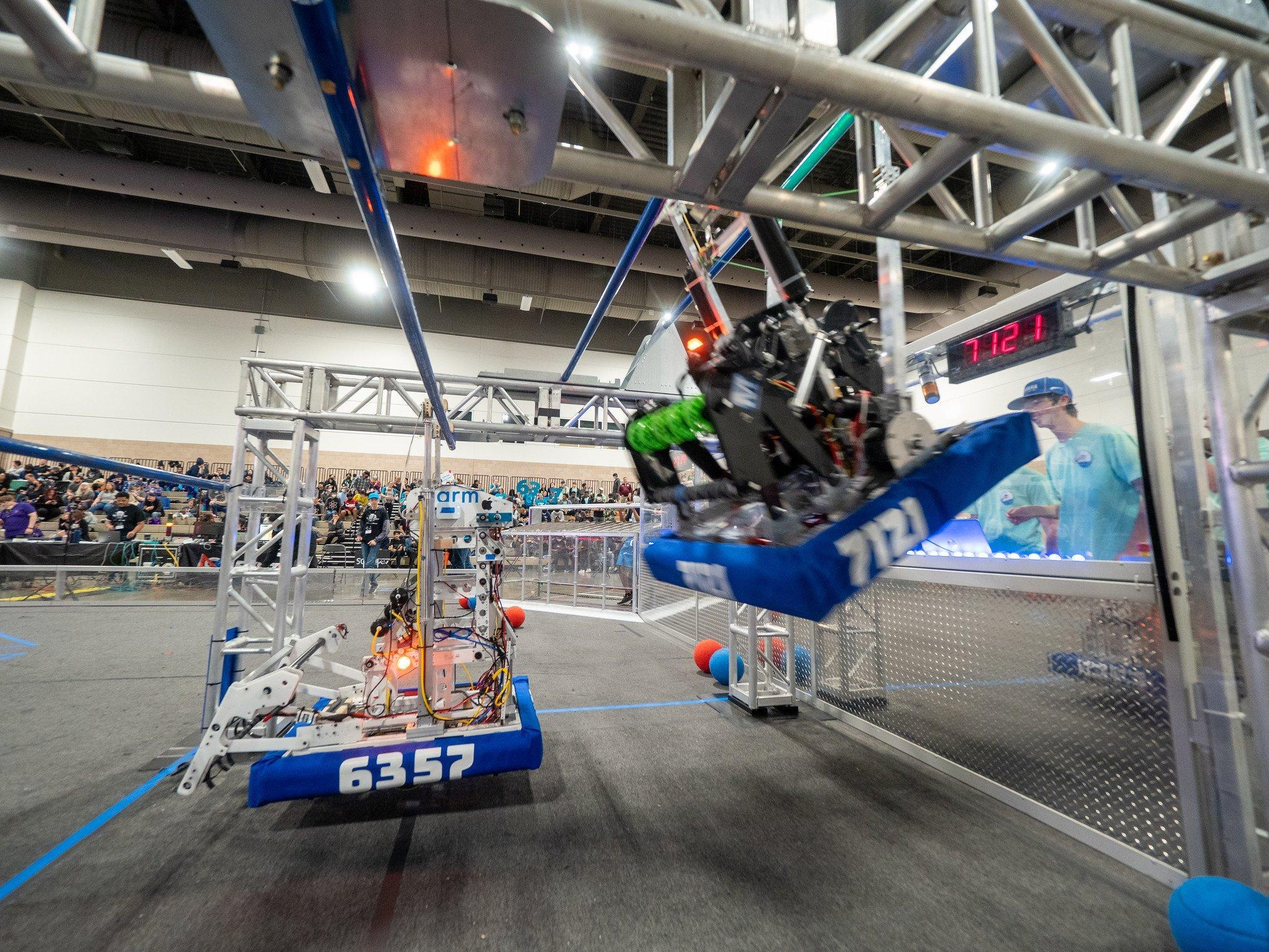robot: (612, 149, 1047, 628), (178, 384, 548, 813)
